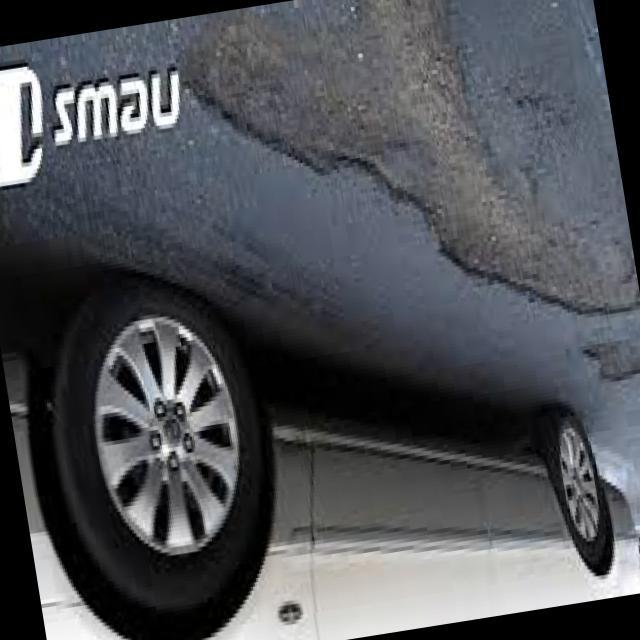pothole: (155, 0, 637, 382), (567, 330, 640, 406)
